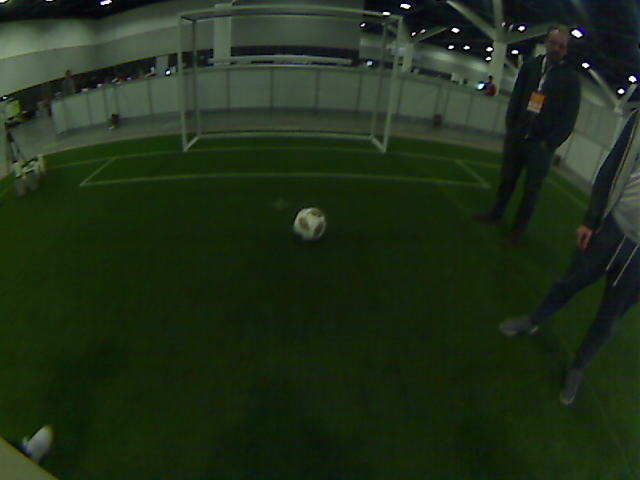ball: (295, 212, 323, 236)
goalpost: (379, 127, 388, 154), (183, 125, 190, 151)
robot: (18, 155, 41, 192)
